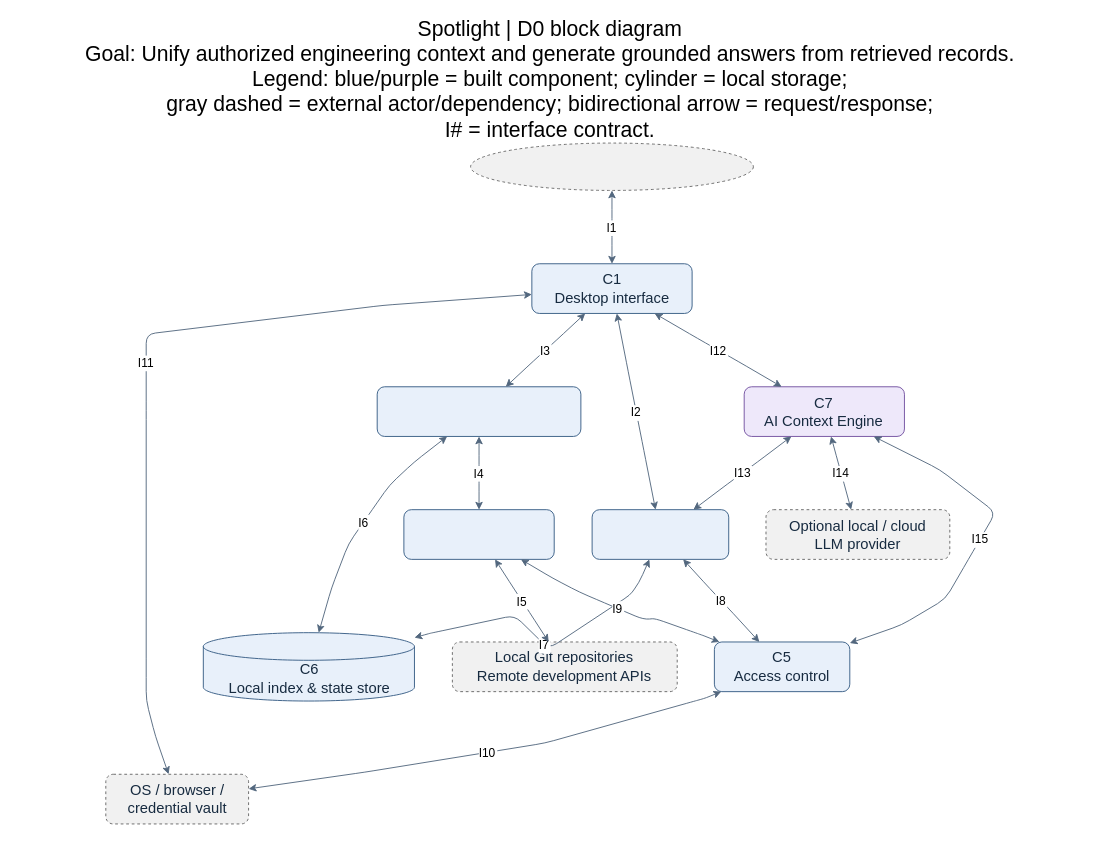
Image size: 1099x841. Some labels were removed from this diagram. Each missing label, with the centre of its shape:
"C2 Search service" goes at point 660,534.
"C3 Synchronization service" goes at point 478,411.
"C4 Source adapters" goes at point 478,534.
"Developer / maintainer" goes at point 611,166.
